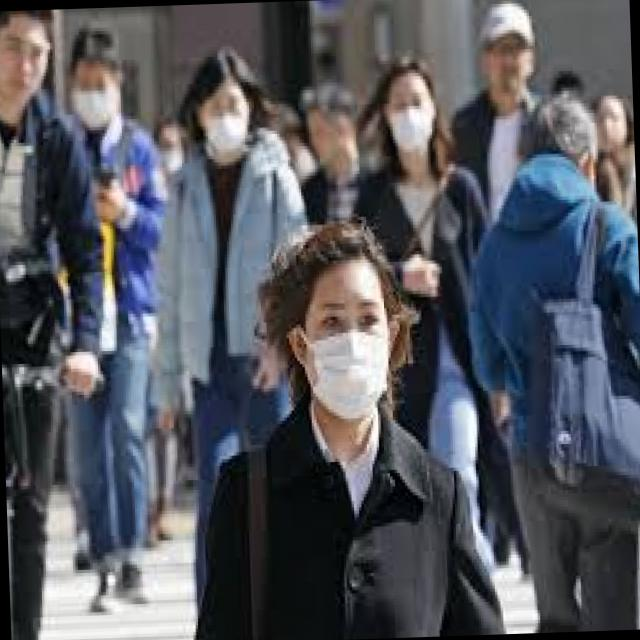Jacket: (187, 411, 504, 640), (458, 162, 640, 474), (144, 138, 322, 432), (348, 165, 499, 388), (45, 110, 172, 338), (0, 94, 100, 364)
